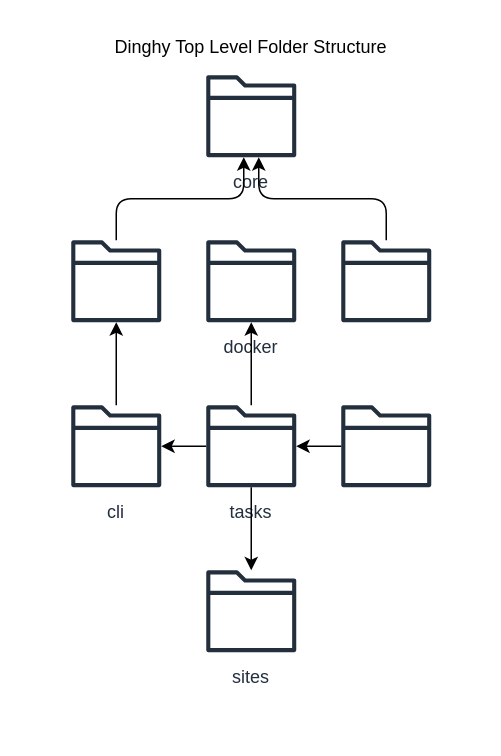
The diagram is 501 pixels wide and 756 high, and some of its shapes have lost their labels. The shapes that lost their labels are listed below. From the top down, each one's centre as x and y in pixels, then its label:
At [115,281]: "engine".
At [385,281]: "examples".
At [385,445]: ".github".
